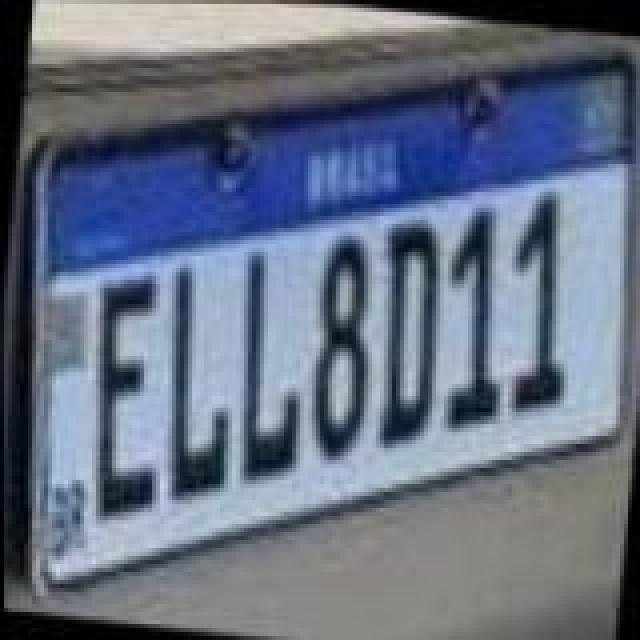1: (428, 194, 520, 430), (492, 182, 584, 418)
8: (300, 226, 384, 466)
D: (360, 208, 452, 456)
E: (72, 264, 176, 524)
L: (224, 244, 320, 492), (152, 264, 248, 508)
